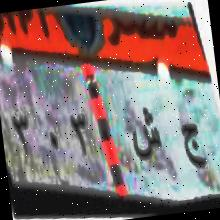0: (42, 122, 64, 176)
3: (69, 109, 92, 162), (10, 109, 33, 160)
jeem: (175, 113, 209, 180)
sheen: (124, 99, 165, 177)
